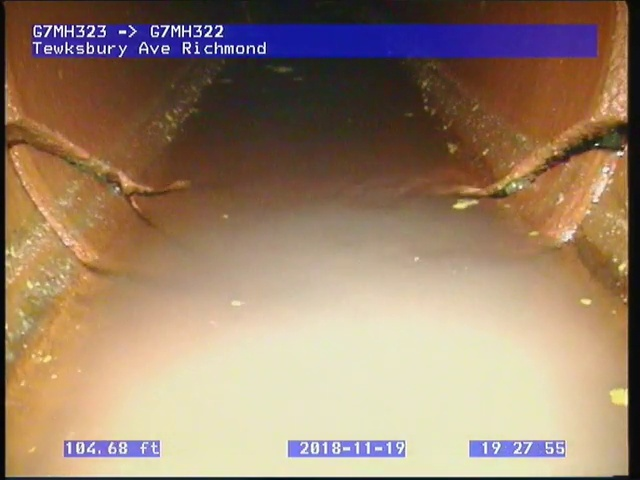crack: (5, 109, 193, 235), (441, 116, 627, 205)
